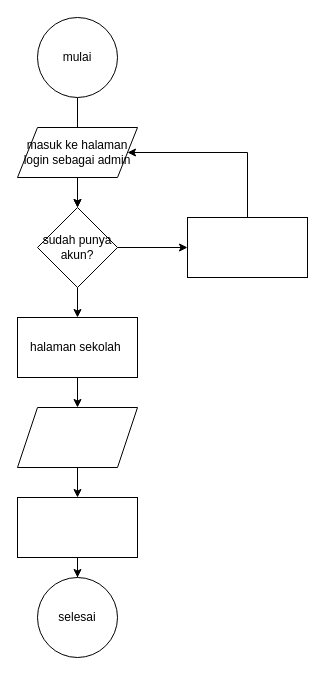
Image size: 325x675. Some labels were removed from this diagram. The shapes that lost their labels are listed below. From the top down, each one's box as (x1, y1, x2, y2) in pixels, then its label:
(186, 216, 308, 278): buat akun admin
(16, 406, 138, 468): lihat input, edit, dan hapus data guru, data siswa, dan generate laporan
(16, 496, 138, 558): data guru, data siswa, dan generate laporan berhasil di perbarui
